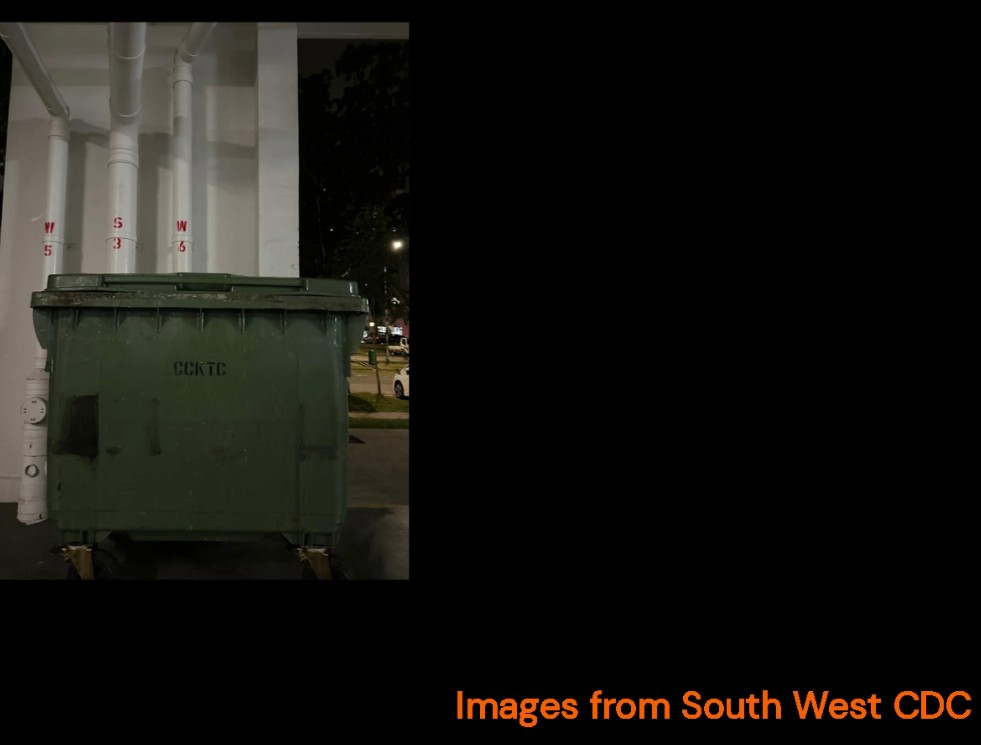bin_empty: (23, 274, 367, 577)
